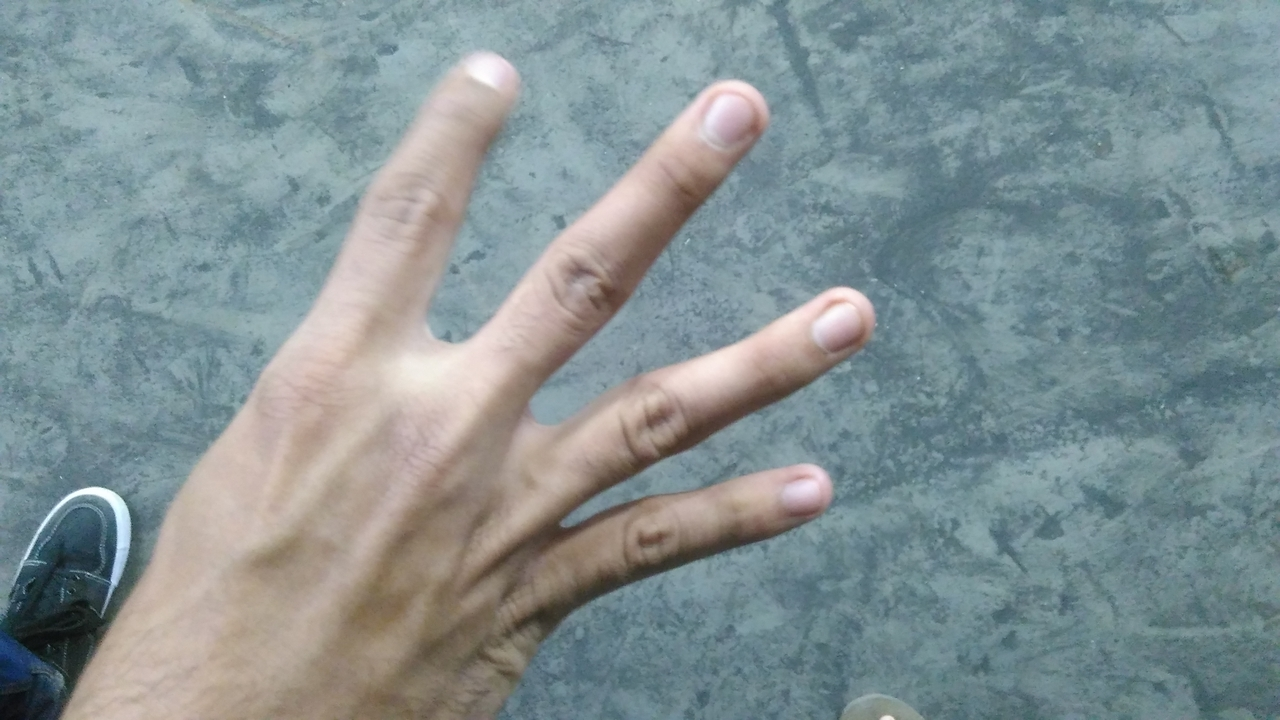fingertip: (802, 279, 882, 373), (692, 74, 786, 140), (442, 42, 528, 110), (758, 462, 840, 524)
